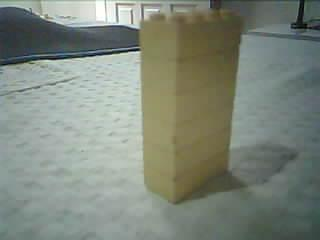lego: (138, 9, 245, 204)
